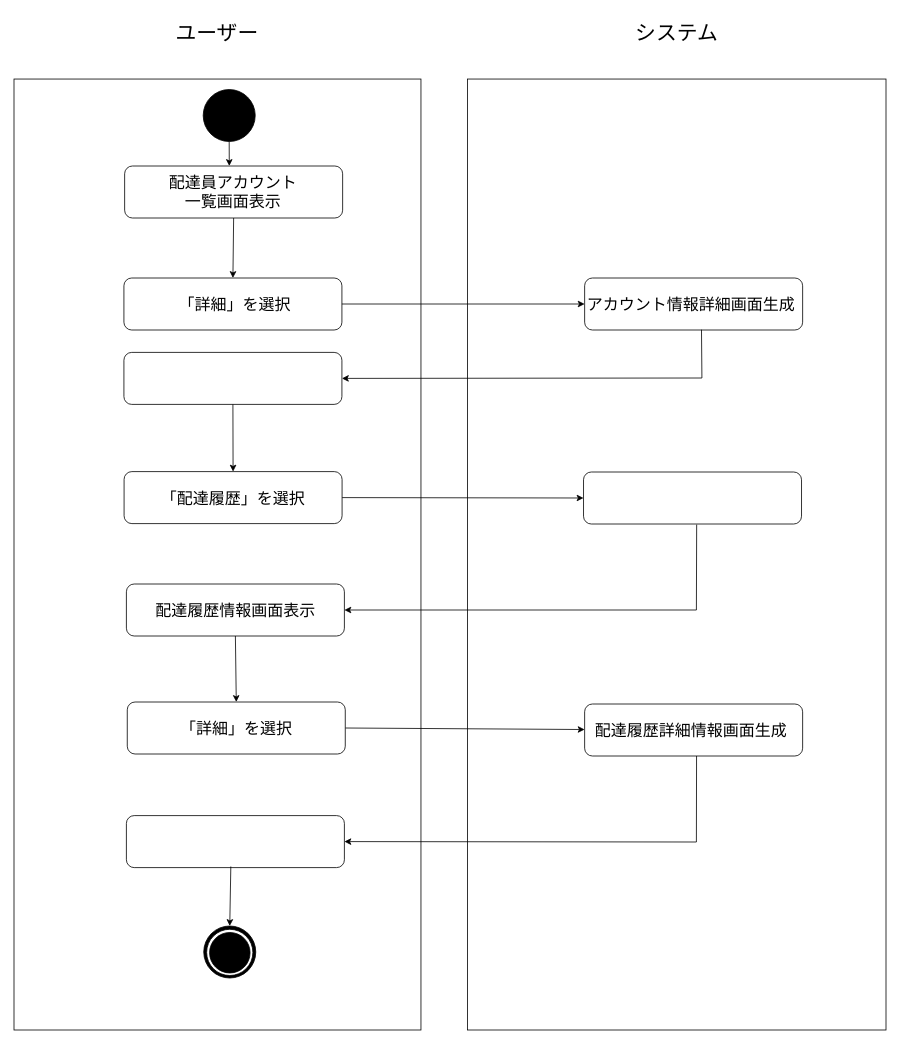
Image size: 900x1044. Some labels were removed from this diagram. The shapes that lost their labels are listed below. From the top down, each one's box as (x1, y1, x2, y2) in pixels, then its label:
(123, 352, 342, 404): アカウント情報詳細画面表示
(583, 471, 802, 524): 配達履歴情報画面生成
(126, 815, 344, 868): 配達履歴詳細情報画面表示
